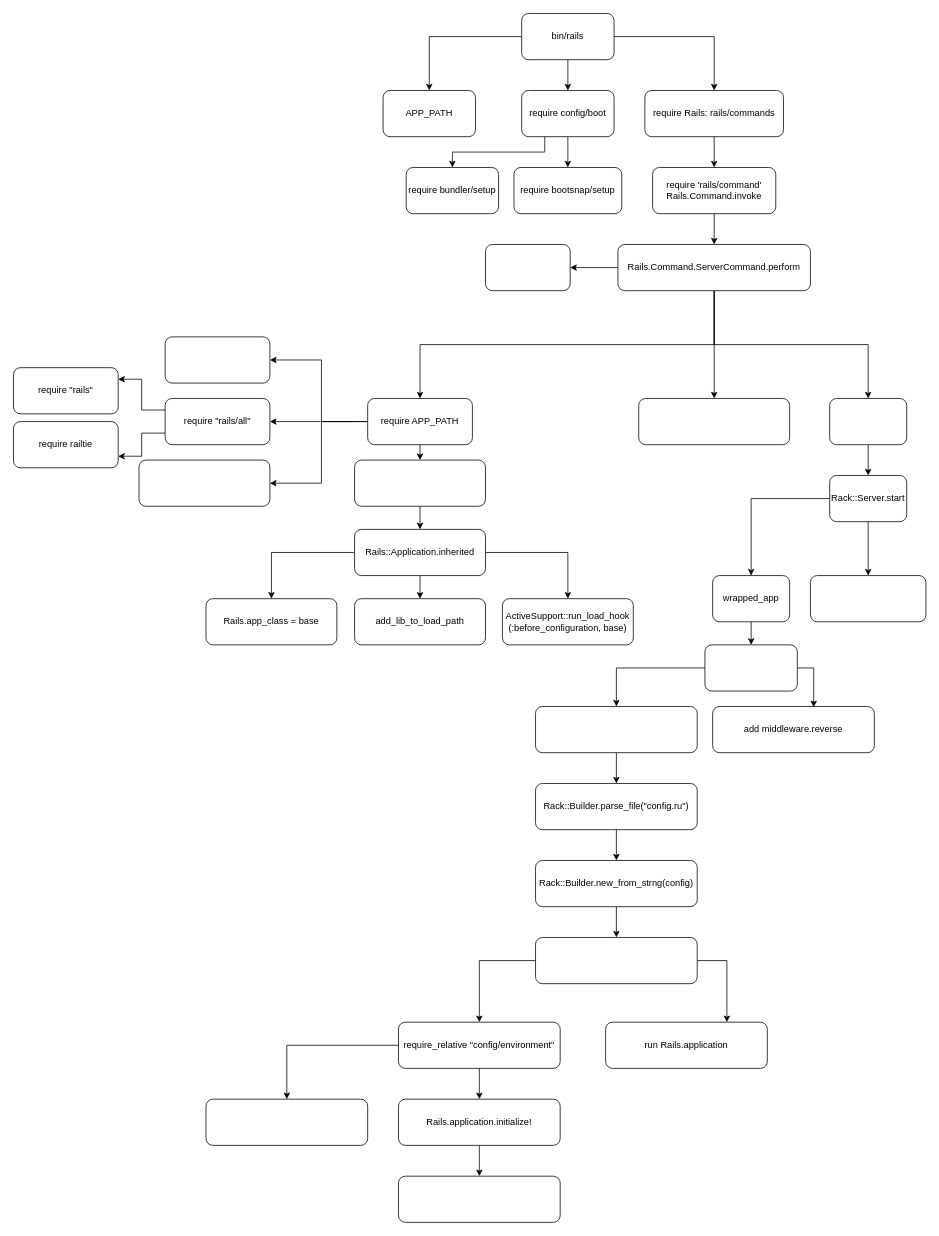
This 939x1236 diagram has some shape labels left out. The shapes that lost their labels are listed below. From the top down, each one's box as (x1, y1, x2, y2) in pixels, then its label:
(485, 244, 570, 291): Rails.Server.new
(164, 336, 270, 383): require_relative 'boot'
(638, 398, 790, 445): Dir.chdir(Rails.application.root)
(829, 398, 907, 445): server.start
(138, 459, 270, 506): Bundler.require(*Rails.groups)
(354, 459, 485, 506): class Application < Rails::Application
(810, 575, 926, 622): server.run(wrapped_app)
(704, 644, 797, 691): @wrapped_app ||= build_app app
(535, 706, 697, 753): @app ||= build_app_and_options_from_config
(535, 937, 697, 984): Rack.build.new { config.ru }
(205, 1098, 368, 1145): require_relative "application"
(398, 1175, 560, 1222): run_initializers
